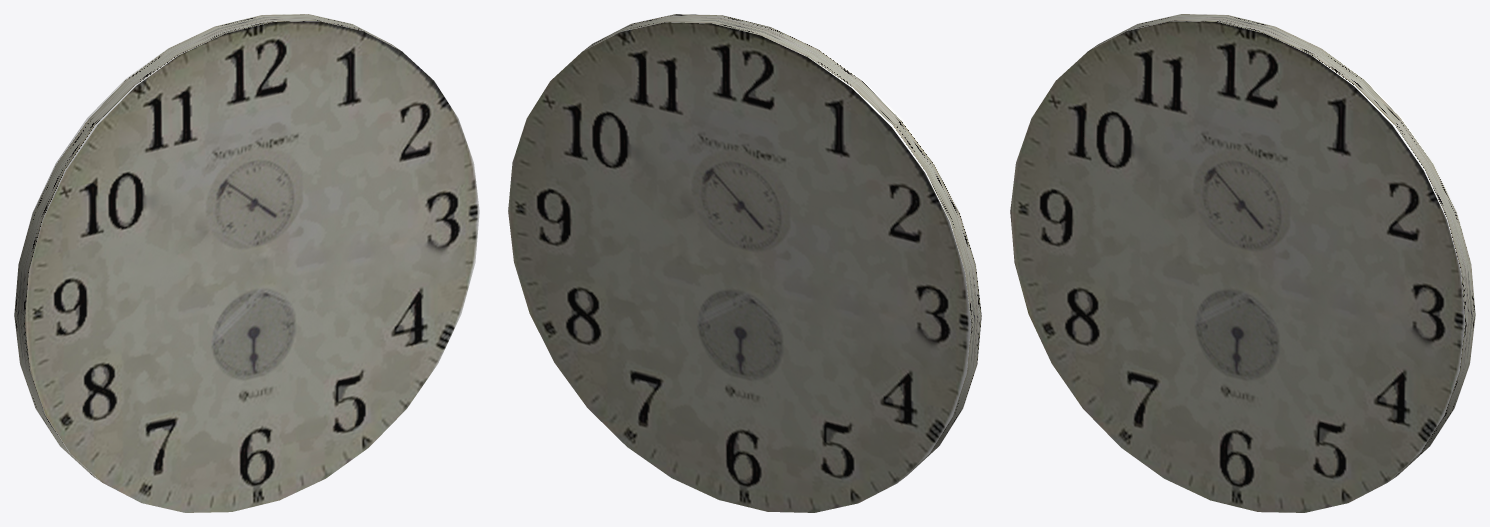
File: reloj.obj
3 views of the same model, side by side, from view 1: azimuth 30°, elevation 25°; view 2: azimuth 150°, elevation 25°; view 3: azimuth 330°, elevation 25° (orthographic).
Parts seen in each view (by area): view 1: body; view 2: body; view 3: body.
Part boxes in pixels (left/top/right/bottom): body: left=14, top=14, right=479, bottom=512; body: left=508, top=14, right=981, bottom=512; body: left=1010, top=14, right=1475, bottom=512.
Size of the model in its own units: 19.69 by 19.59 by 1.31.
1 material, 1 textured.
